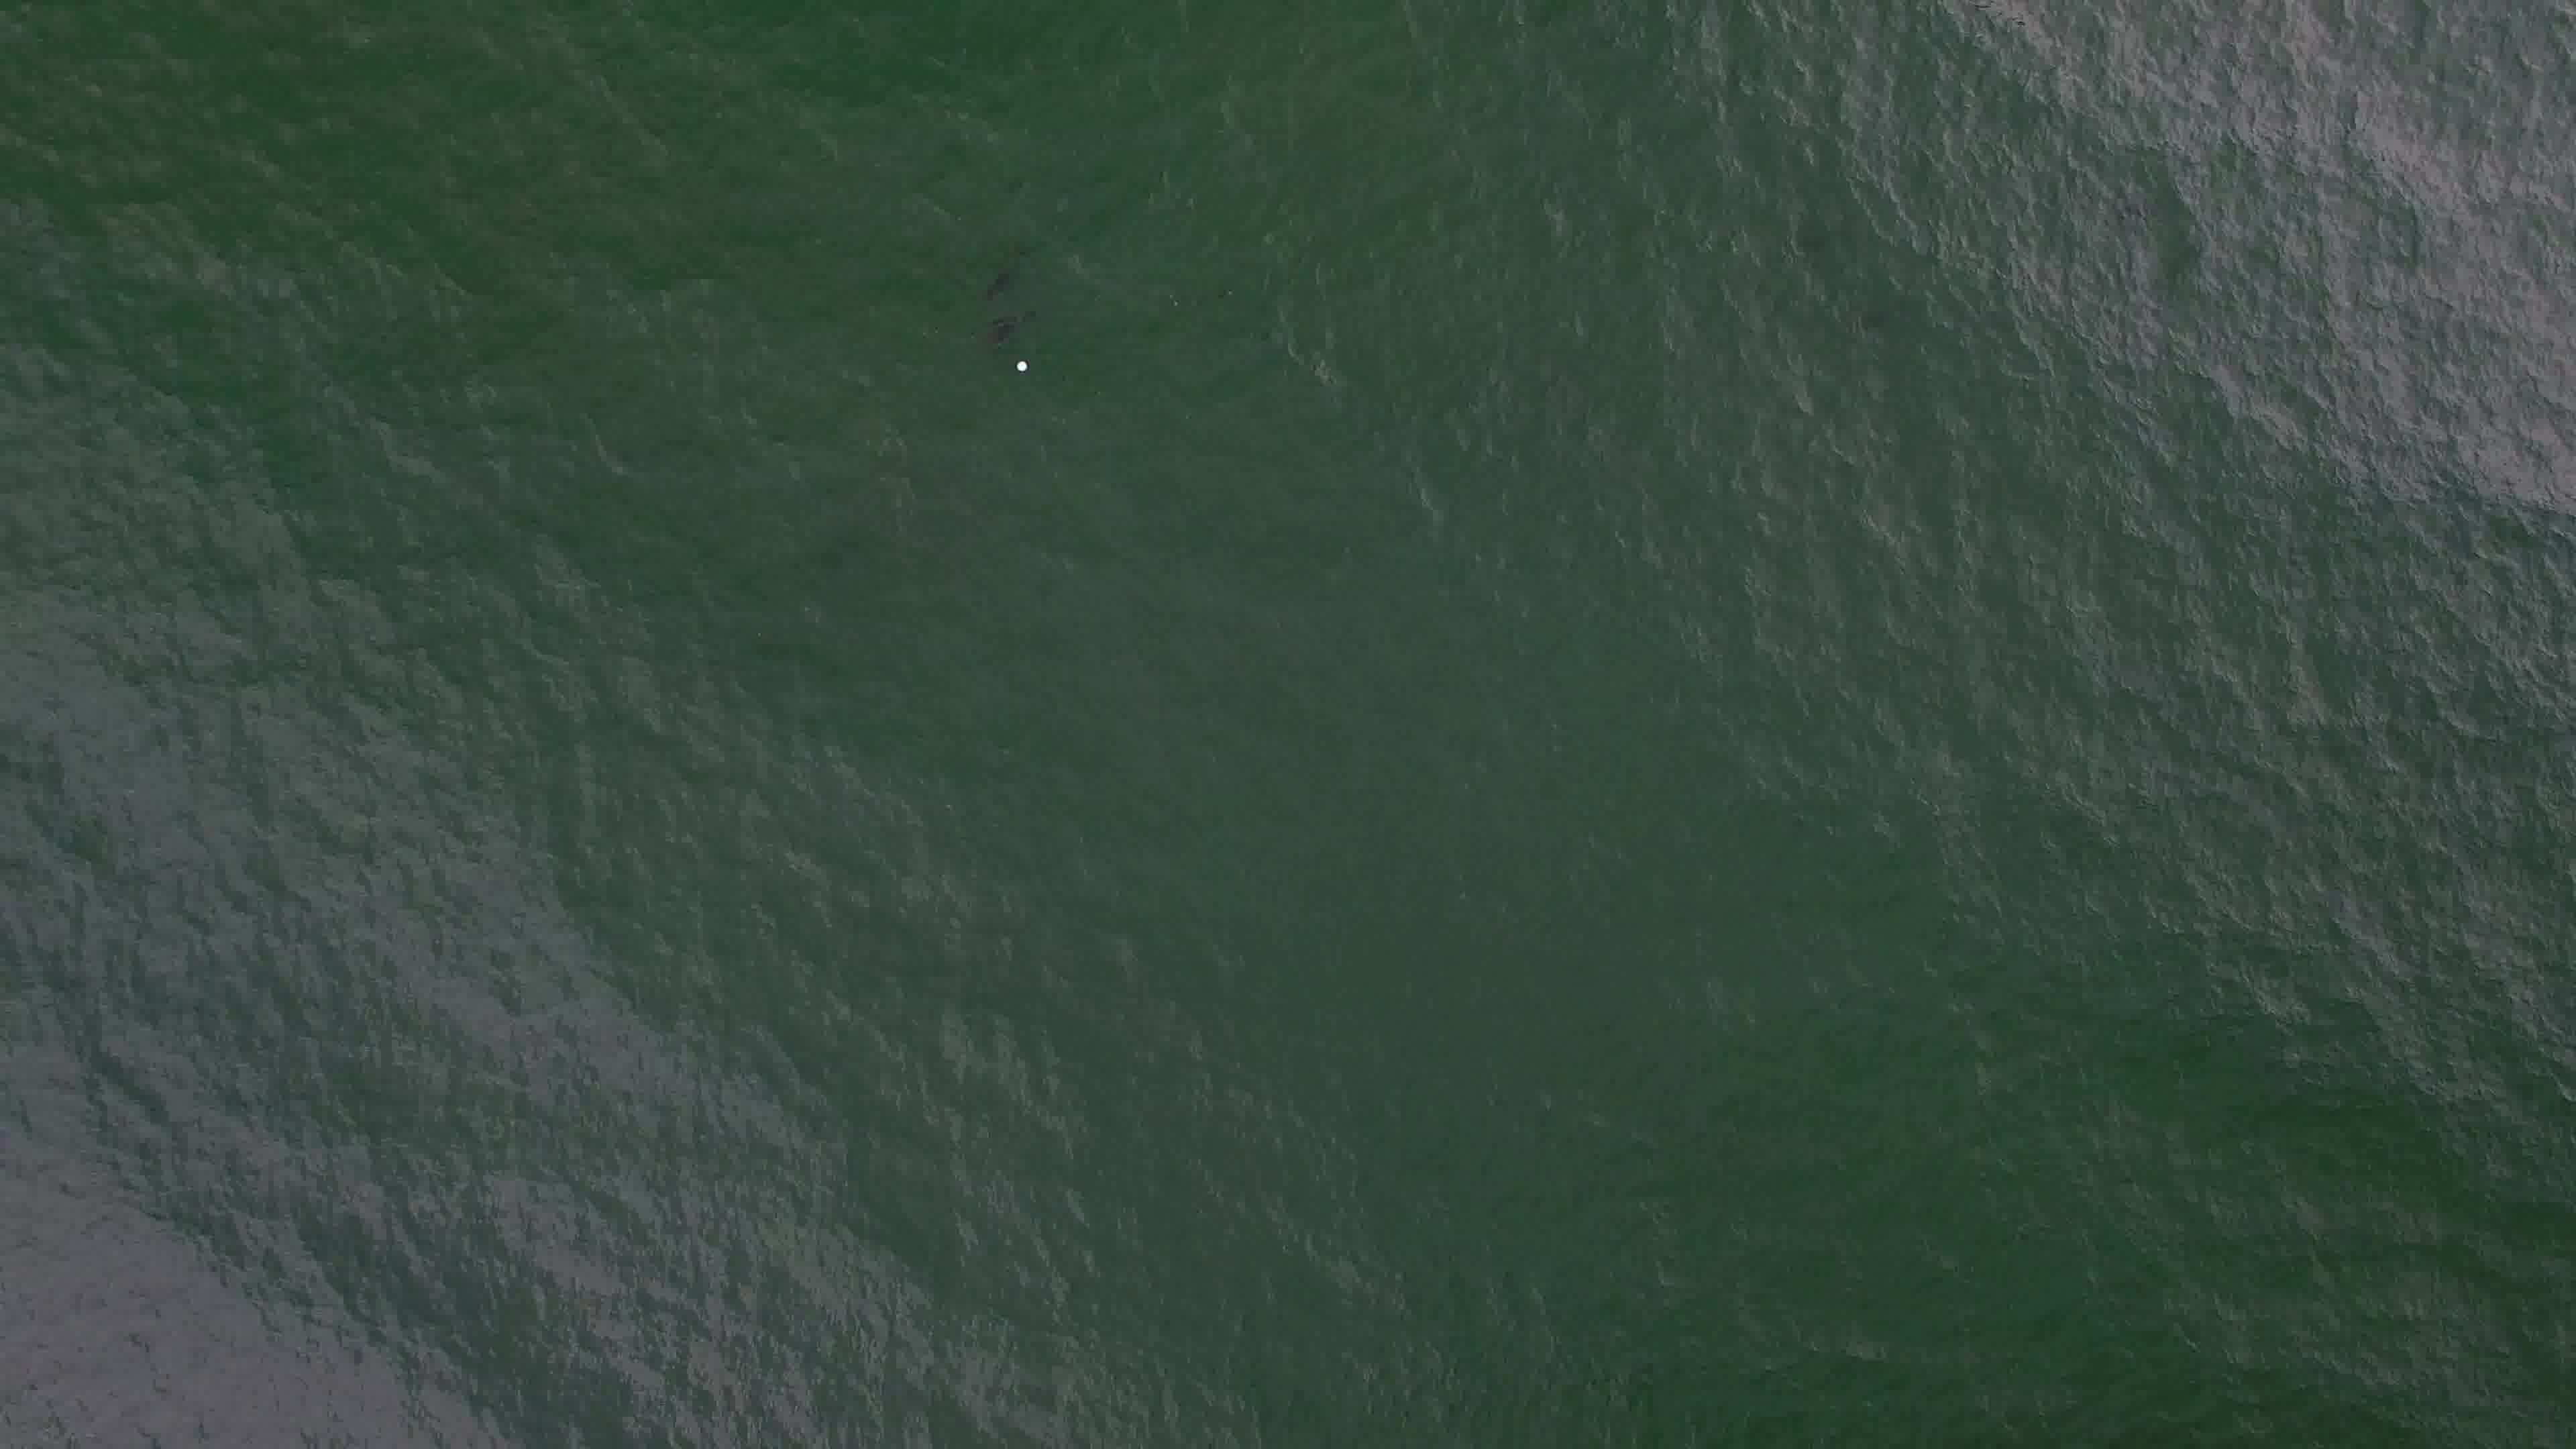dolphin: (952, 239, 1044, 303), (966, 288, 1058, 352)
